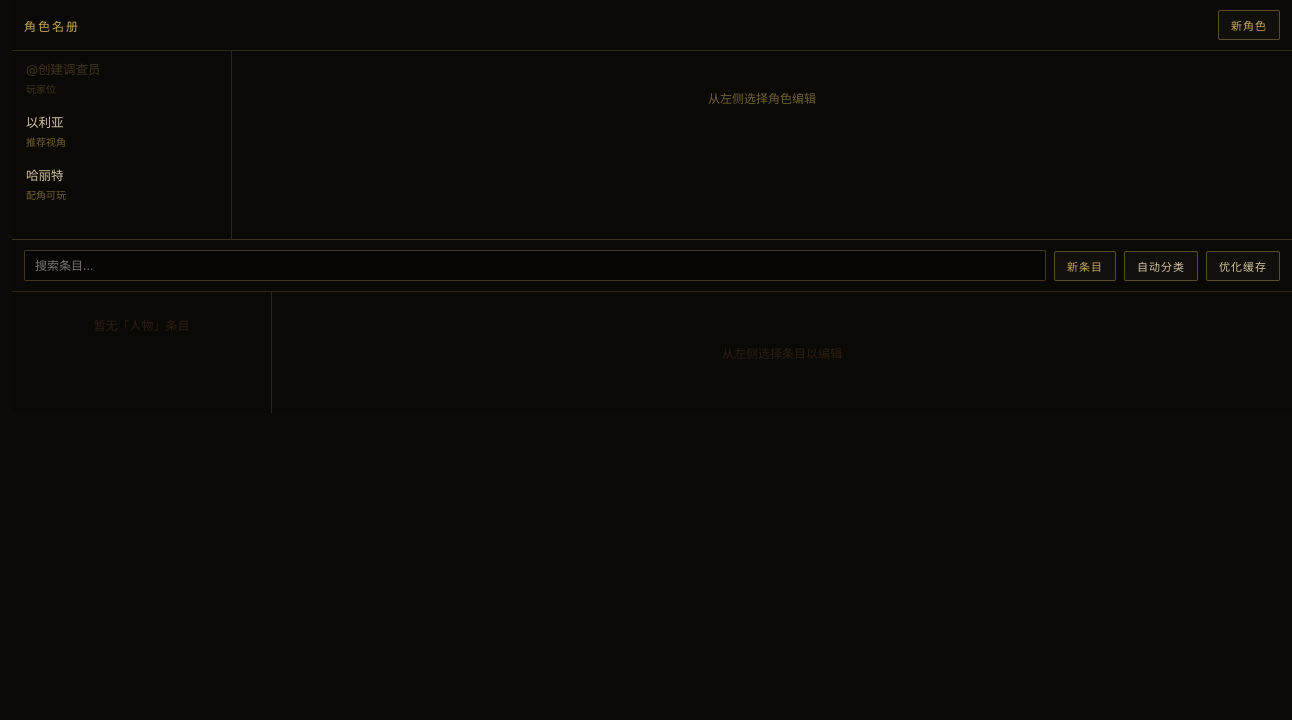
Scenario: PeopleTab 右栏 — 人际关系折叠段 › 选中角色后右栏有【人际关系】折叠段标题，默认折叠（RelationEditor 不渲染）
Click the text "以利亚".
click(45, 122)  # box 26,112 -> 64,131
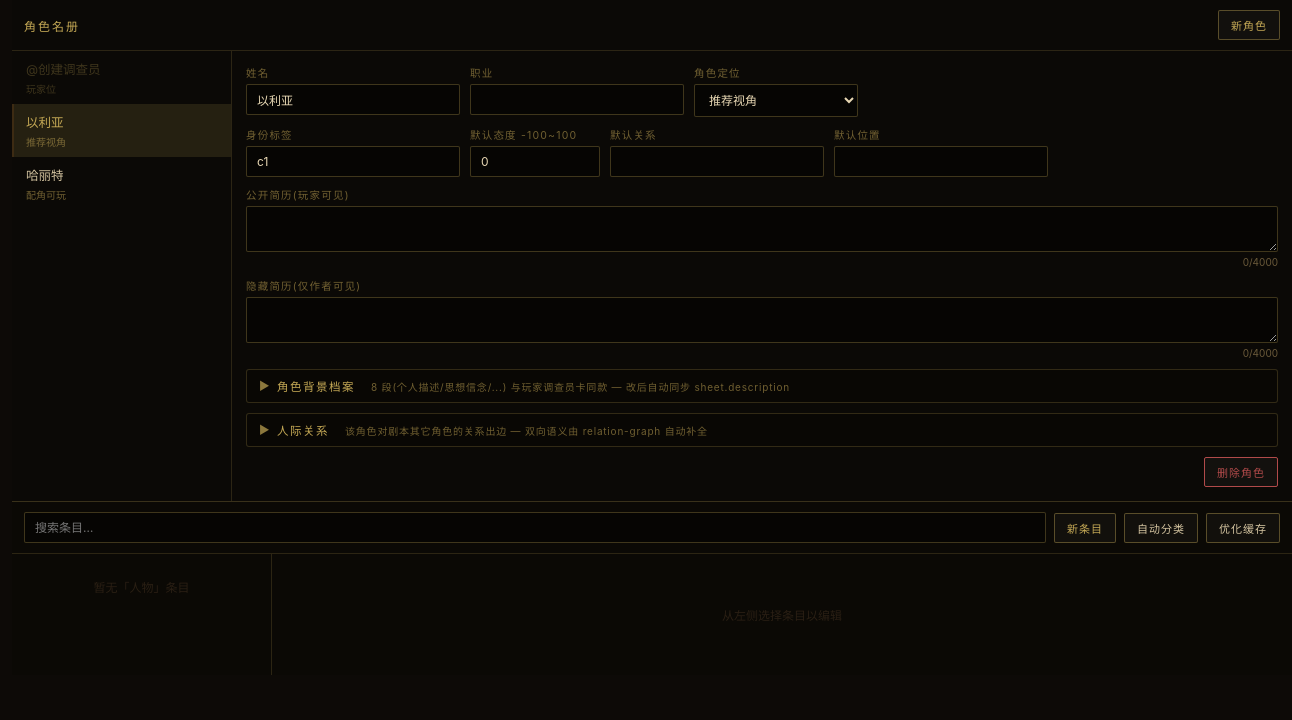
Expected: the text "人际关系" is shown, 277,422 -> 329,438
